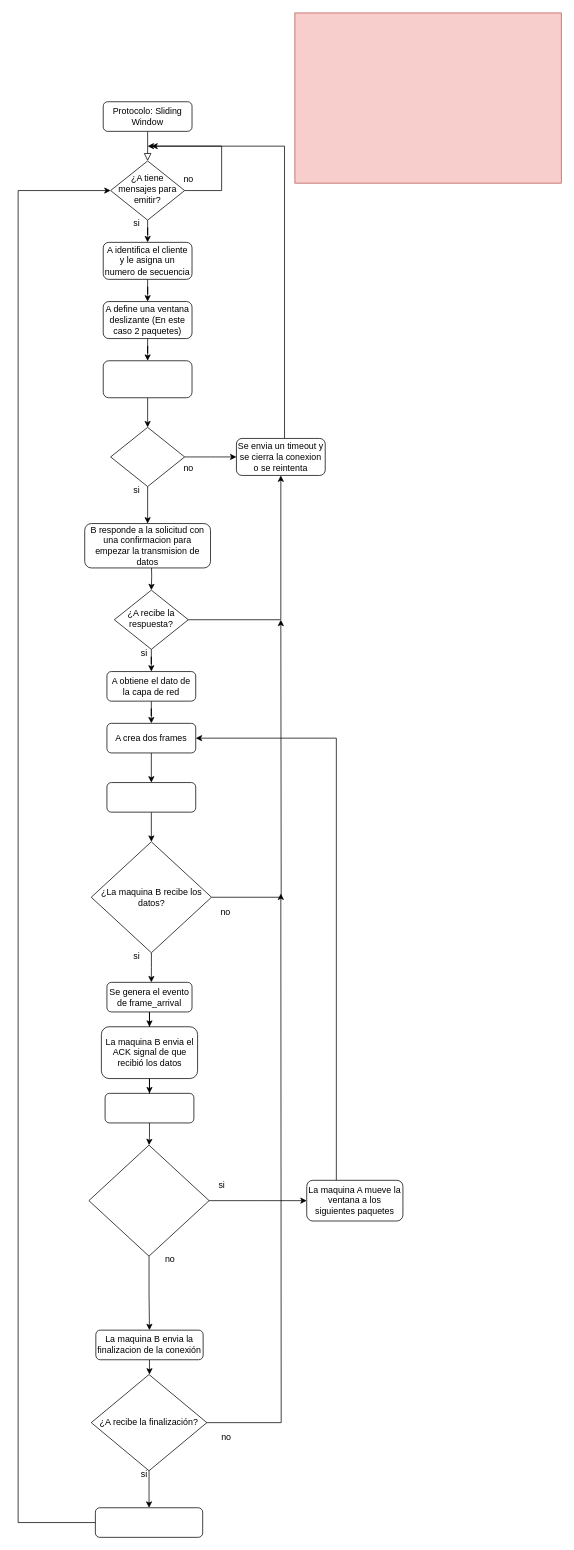
Image size: 574x1550. Some labels were removed from this diagram. Each missing label, with the box of its shape:
A envia los frames con los mensajes: (106, 782, 196, 812)
Confirma que se finaliza la conexión: (95, 1507, 203, 1537)
Envia una solicitud para transmitir datos: (102, 360, 192, 398)
INCLUIR ERRORES Y EVENTOS ANTES DE ENVIAR: (294, 12, 561, 183)
La maquina B procesa el los datos: (104, 1093, 194, 1123)
¿B recibe la solicitud?: (110, 427, 185, 487)
¿La maquina tiene más paquetes para enviar?: (88, 1144, 209, 1256)
